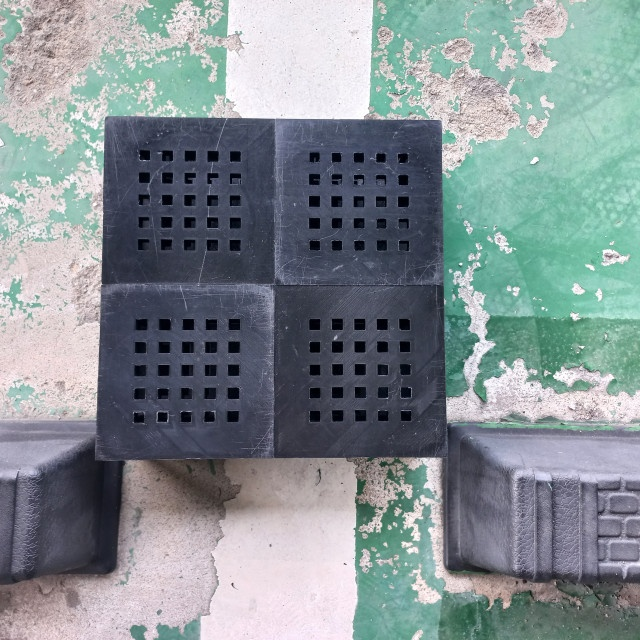pallet: (97, 115, 448, 459)
